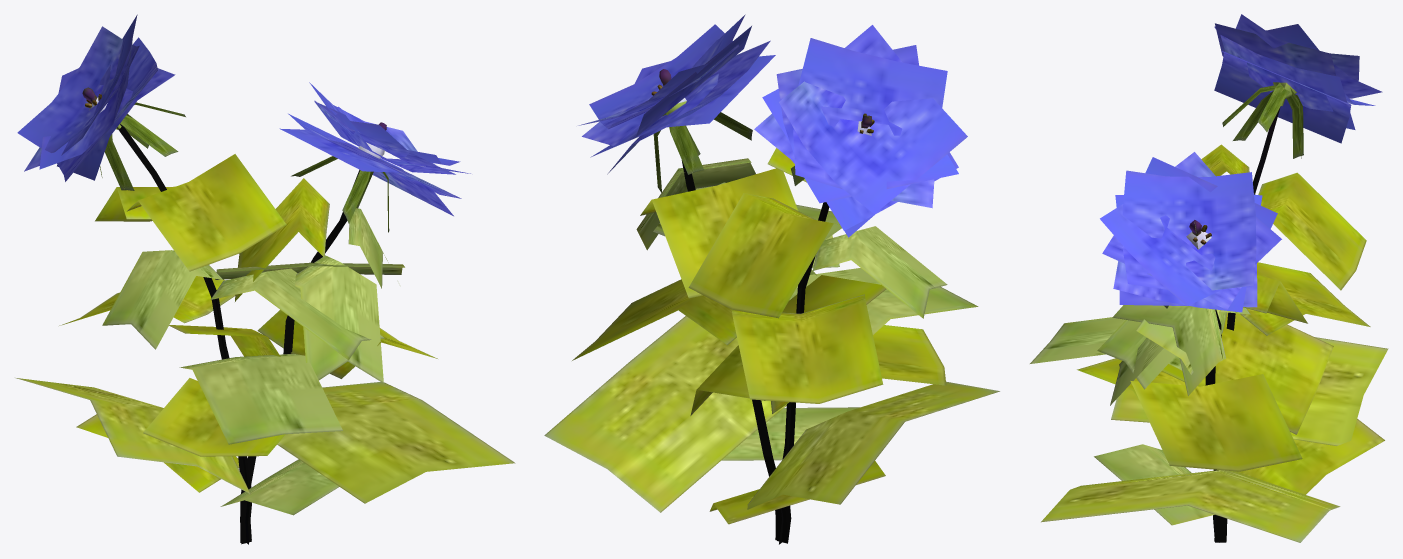
3 renders of one model, left to right at view 1: azimuth 30°, elevation 25°; view 2: azimuth 150°, elevation 25°; view 3: azimuth 270°, elevation 25°, orthographic. The views are drawn at different scales.
Visible parts, largest first — view 1: Small_Bl002; view 2: Small_Bl002; view 3: Small_Bl002.
Part boxes in pixels (bbox=[...]): Small_Bl002: bbox=[16, 14, 515, 544]; Small_Bl002: bbox=[544, 14, 999, 544]; Small_Bl002: bbox=[1030, 14, 1388, 542].
Size of the model in its own units: 10.76 by 13.86 by 9.25.
